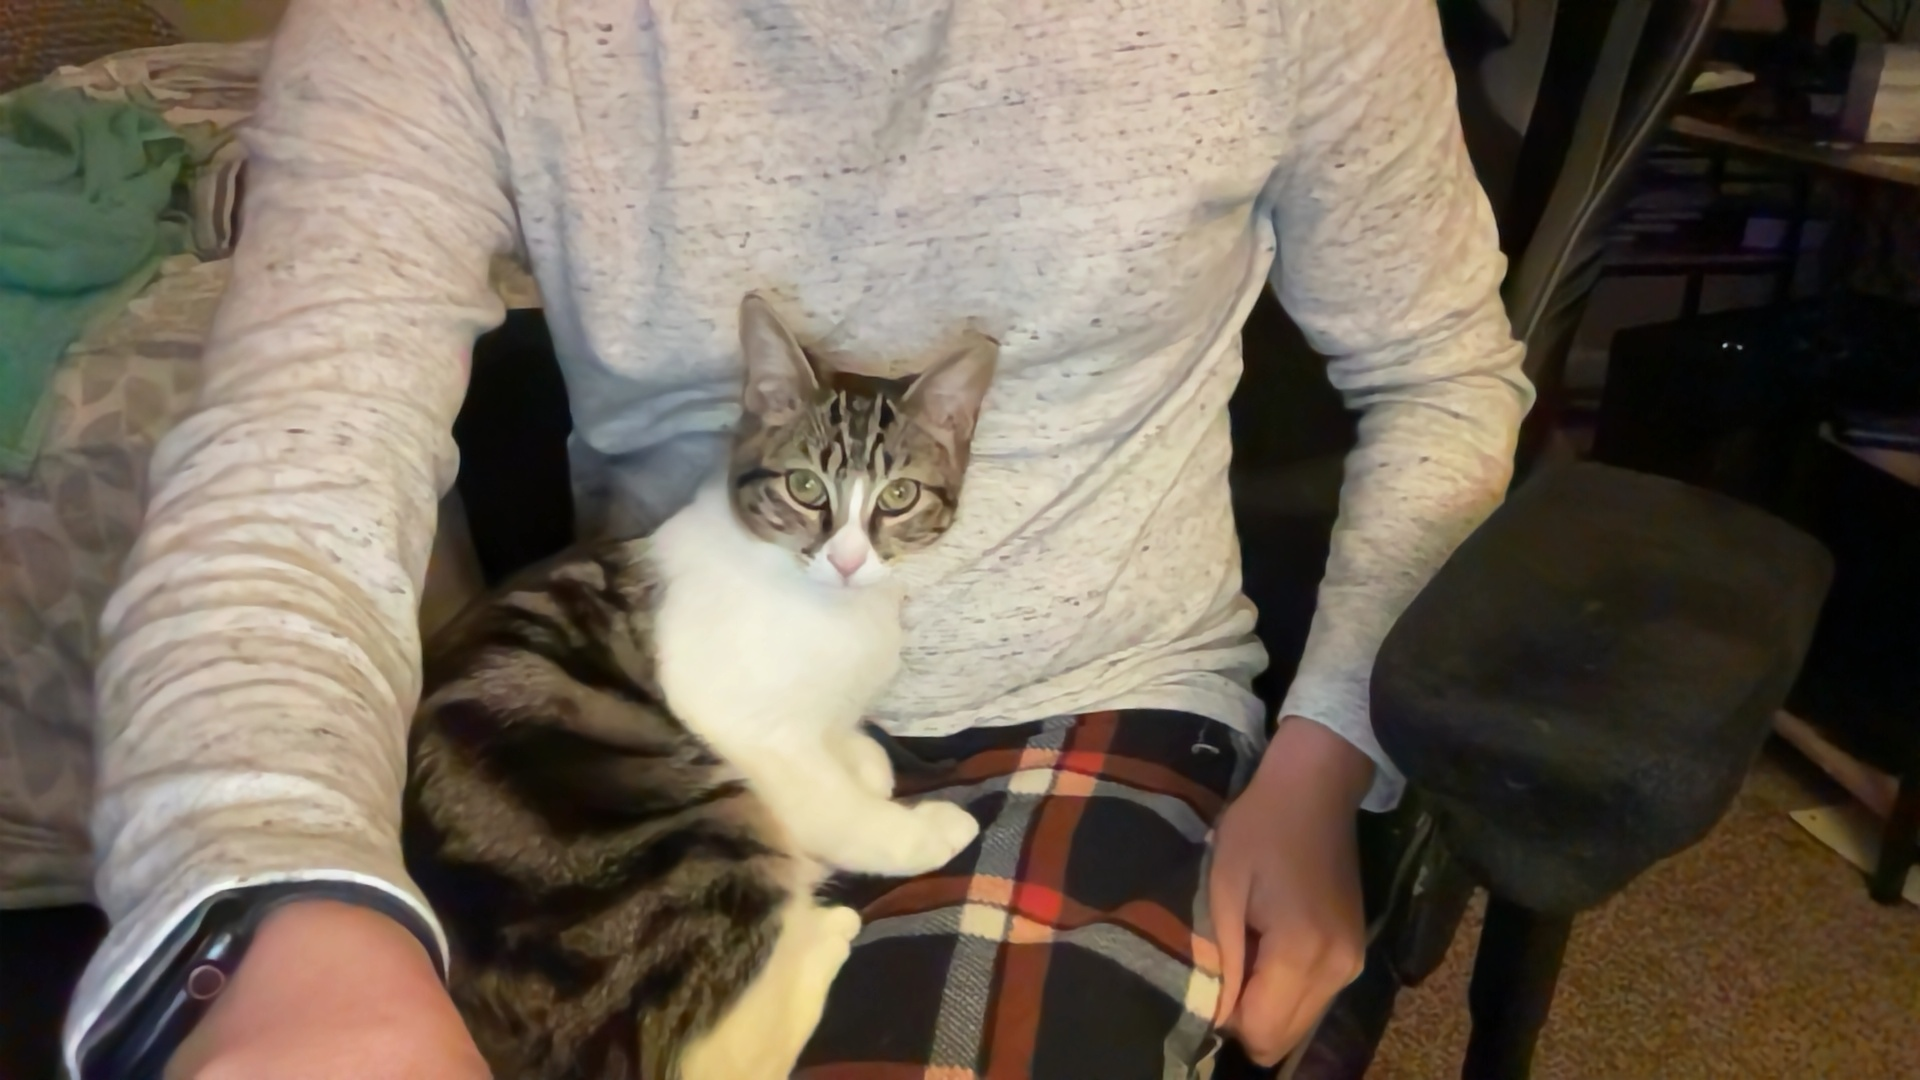cat: (406, 291, 1002, 1080)
